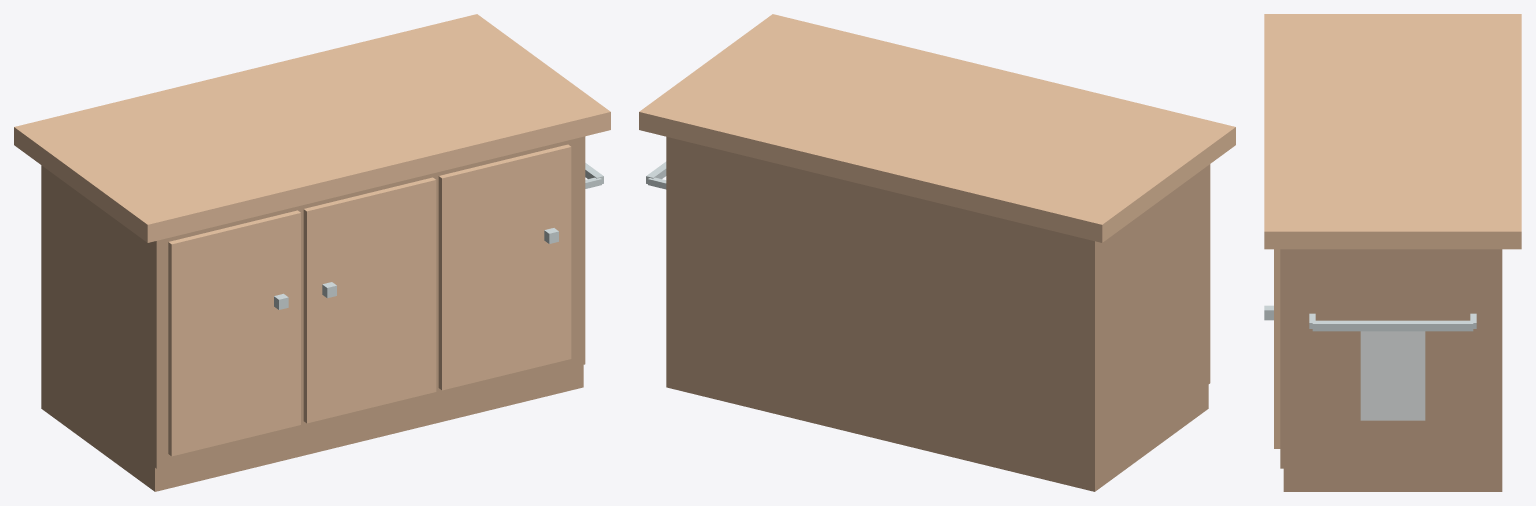
Rendered from islandTable.glb.
3 views of the same model, side by side, from view 1: azimuth 30°, elevation 25°; view 2: azimuth 150°, elevation 25°; view 3: azimuth 270°, elevation 25° (orthographic). The views are drawn at different scales.
Visible parts, largest first — view 1: islandTable; view 2: islandTable; view 3: islandTable.
Boxes of the visible parts, x1,y1,x2,y2 form: islandTable: (14, 14, 610, 491); islandTable: (639, 14, 1235, 491); islandTable: (1264, 14, 1521, 491).
Bounding box in the file's own units: 0.8313 × 0.46 × 0.4.
